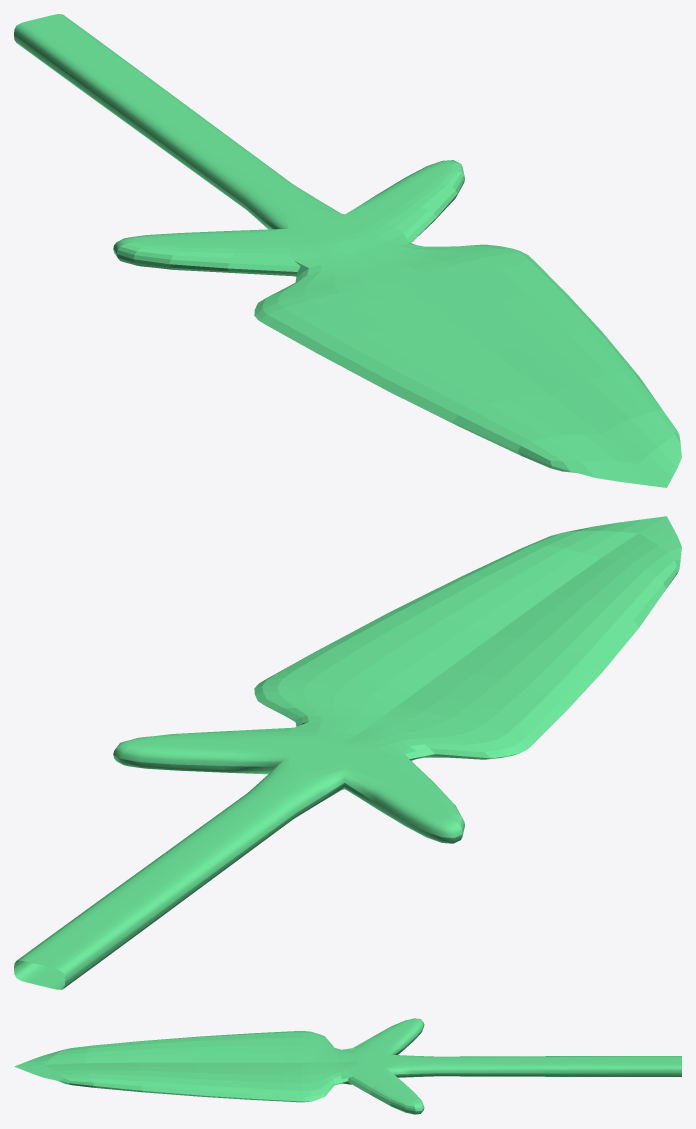
The model's file is Knifer.fbx.
3 renders of one model, top to bottom at view 1: azimuth 30°, elevation 25°; view 2: azimuth 150°, elevation 25°; view 3: azimuth 270°, elevation 25°, orthographic. The views are drawn at different scales.
Visible parts, largest first — view 1: Knifer; view 2: Knifer; view 3: Knifer.
Part boxes in pixels (x1,y1,x2,y2): Knifer: (14,14,681,487); Knifer: (14,516,681,989); Knifer: (14,1018,681,1114).
Bounding box in the file's own units: 83.57 × 262 × 5.69.
